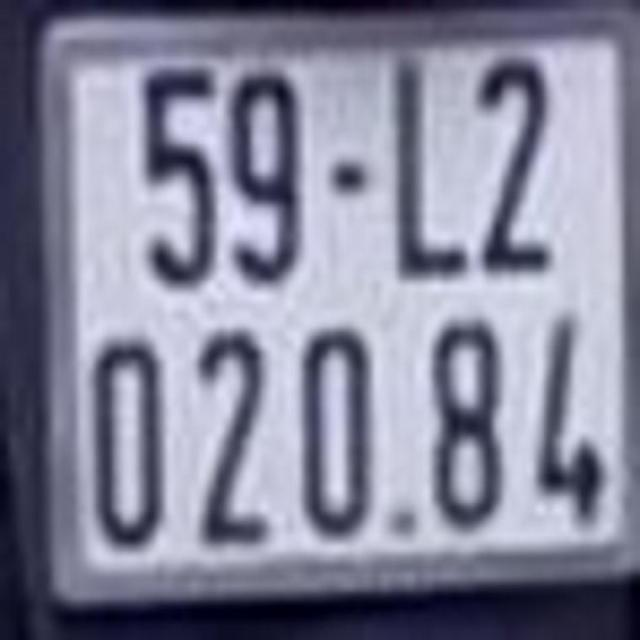0: (292, 323, 374, 536), (88, 332, 166, 548)
2: (186, 324, 270, 542), (480, 50, 555, 273)
4: (530, 300, 618, 524)
5: (140, 60, 218, 284)
8: (426, 314, 504, 529)
9: (228, 66, 304, 279)
L: (382, 49, 470, 281)
